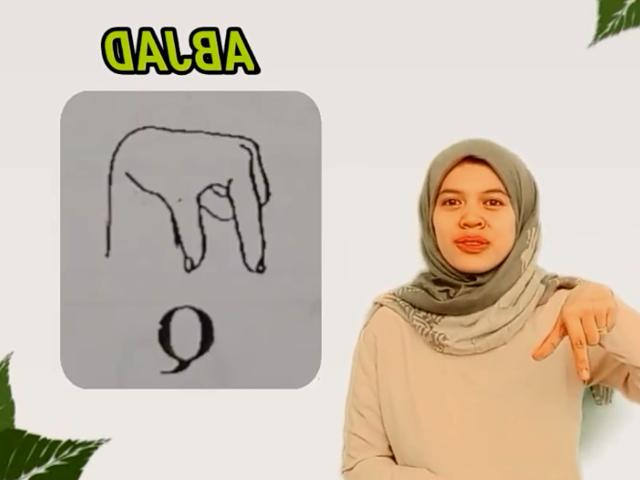Q: (528, 278, 618, 382)
